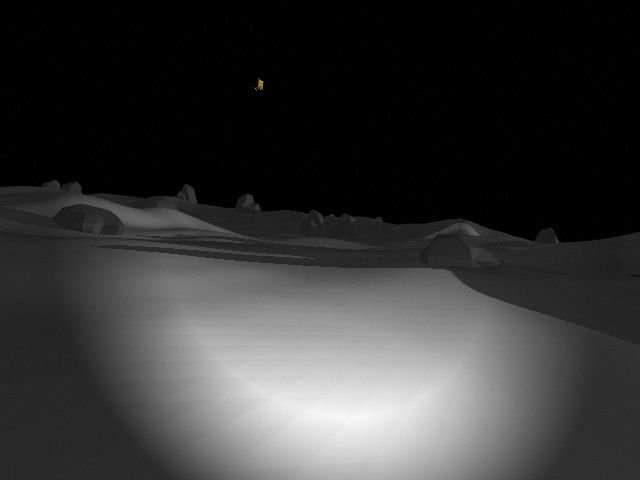cubesat: (247, 75, 267, 94)
